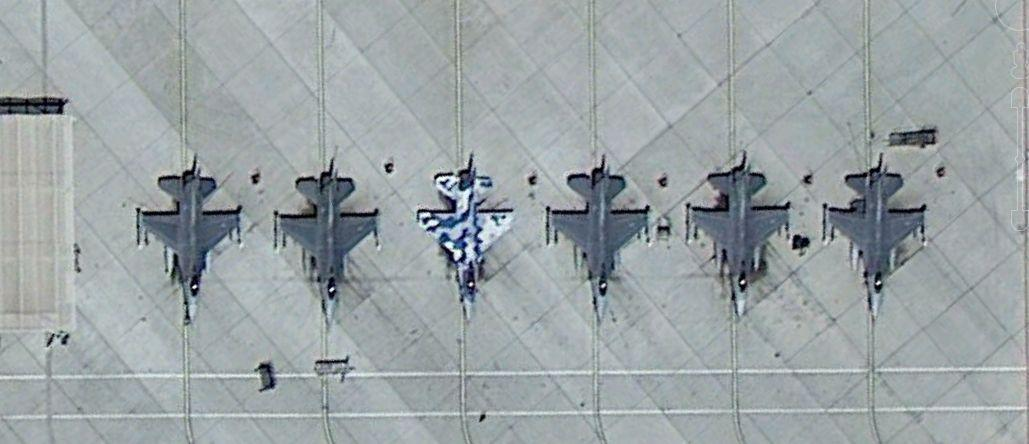F-16: (821, 157, 927, 318), (544, 161, 649, 323), (686, 158, 790, 319), (132, 163, 238, 305), (278, 168, 384, 309), (421, 163, 513, 317)
